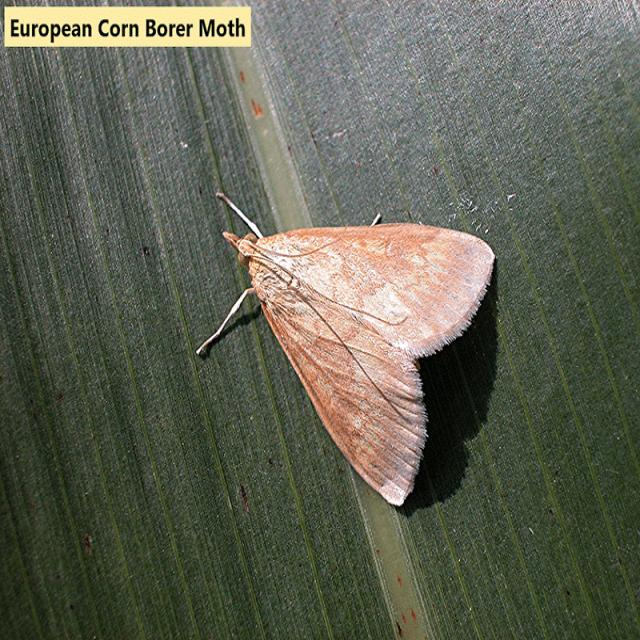cornborer-Adult-: (176, 183, 500, 518)
